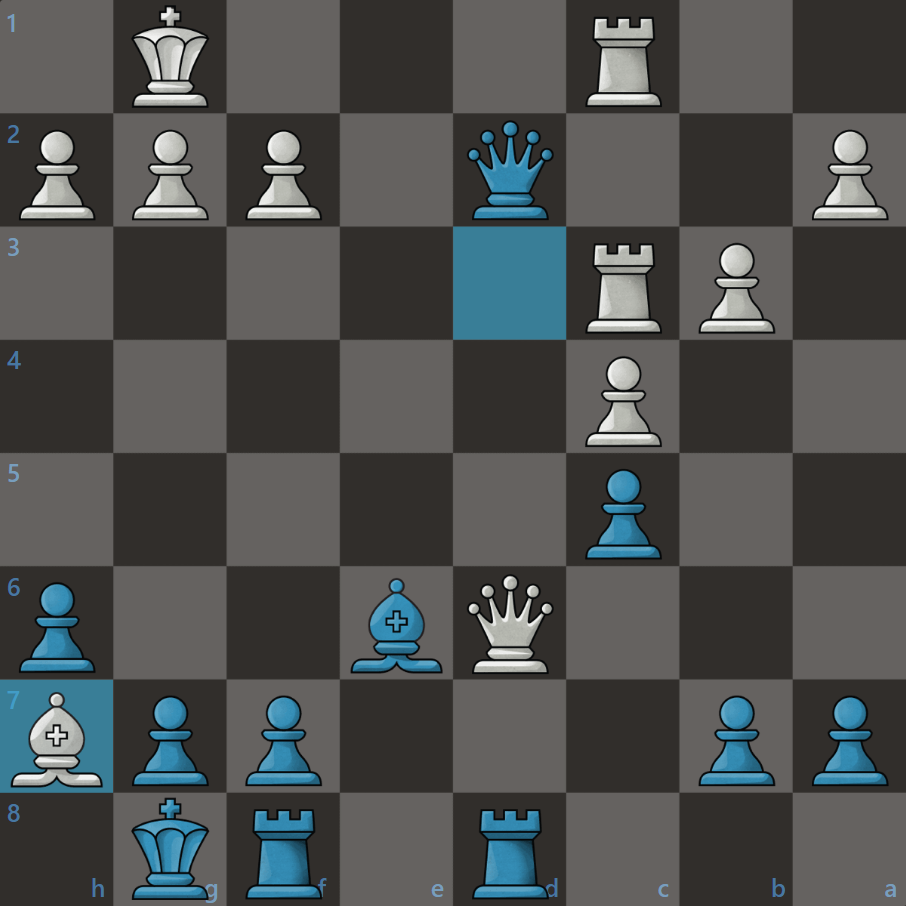B: (10, 690, 107, 790)
K: (126, 3, 215, 110)
P: (697, 238, 778, 337), (808, 125, 889, 224), (242, 125, 323, 224), (129, 125, 210, 224), (14, 125, 95, 224), (585, 352, 664, 452)
Q: (463, 571, 554, 677)
R: (586, 240, 666, 338), (585, 13, 662, 110)
b: (349, 573, 445, 675)
k: (128, 795, 214, 903)
p: (580, 464, 664, 561), (809, 692, 892, 788), (130, 692, 212, 789), (244, 693, 324, 790), (698, 691, 777, 788), (17, 579, 96, 675)
q: (462, 118, 558, 225)
r: (472, 805, 554, 904), (245, 804, 326, 903)
